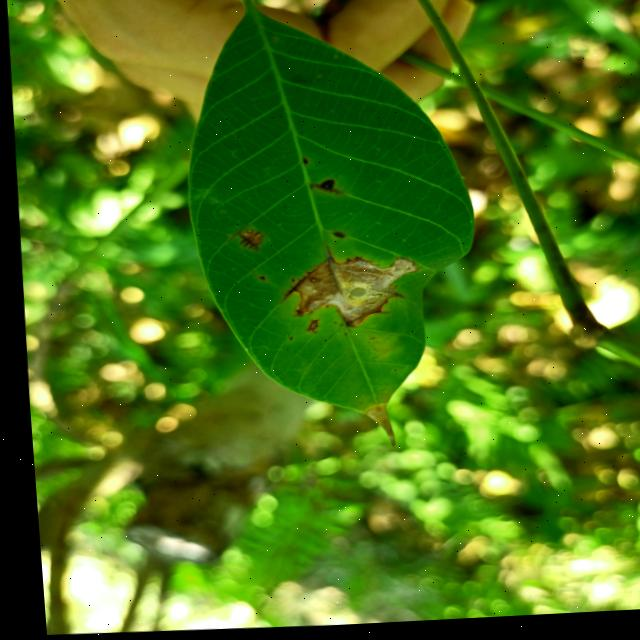Corynespora: (272, 273, 307, 305), (303, 181, 338, 201), (230, 232, 259, 255)
Leaf-Blight: (284, 256, 416, 333), (355, 406, 389, 451)
